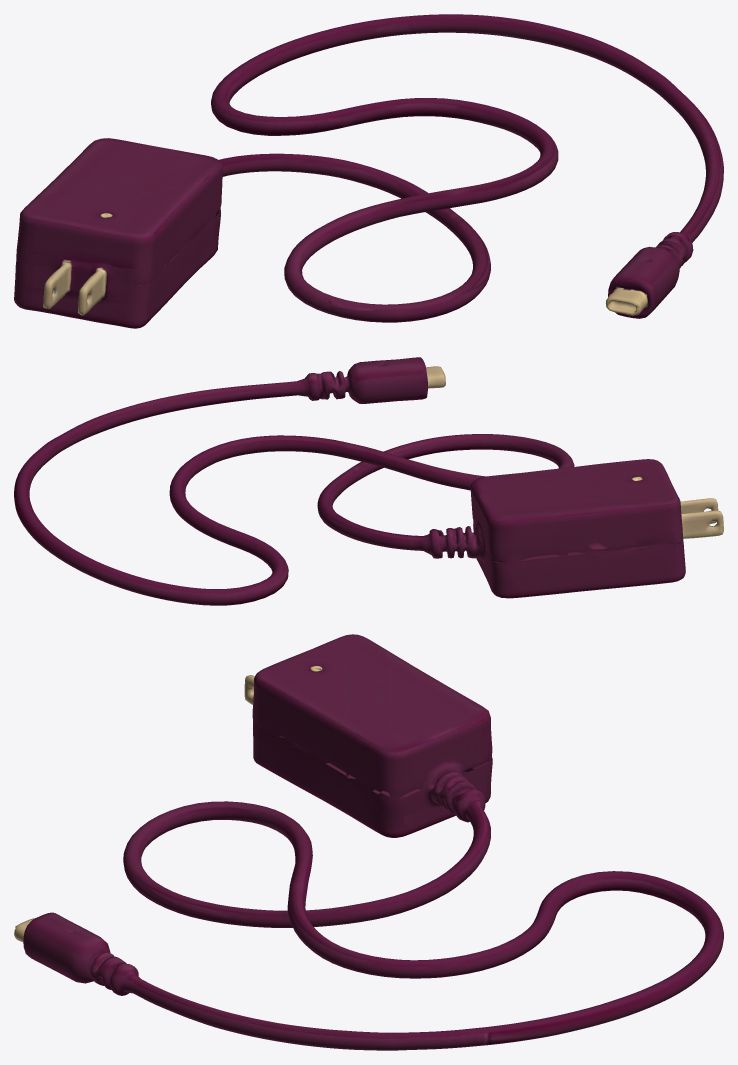
File: tripo_convert_b375a237-5246-4be5-919c-39be7cc97318.fbx
3 renders of one model, top to bottom at view 1: azimuth 30°, elevation 25°; view 2: azimuth 150°, elevation 25°; view 3: azimuth 270°, elevation 25°, orthographic. The views are drawn at different scales.
Visible parts, largest first — view 1: tripo_node_b375a237; view 2: tripo_node_b375a237; view 3: tripo_node_b375a237.
Part boxes in pixels (x1,y1,x2,y2): tripo_node_b375a237: [14, 14, 723, 328]; tripo_node_b375a237: [14, 357, 723, 605]; tripo_node_b375a237: [14, 634, 723, 1050].
Bounding box in the file's own units: 0.9787 × 0.1359 × 0.8467.
1 material, 1 textured.
